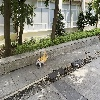fire: (38, 50, 48, 62)
